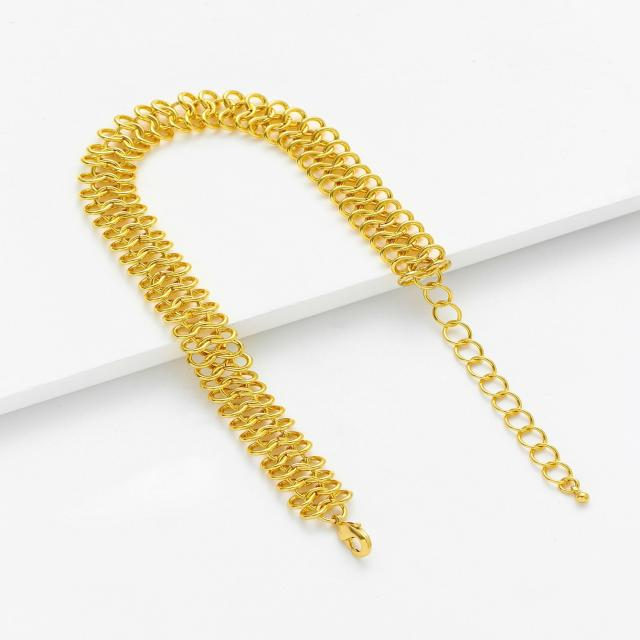bracelet: (42, 54, 605, 572)
